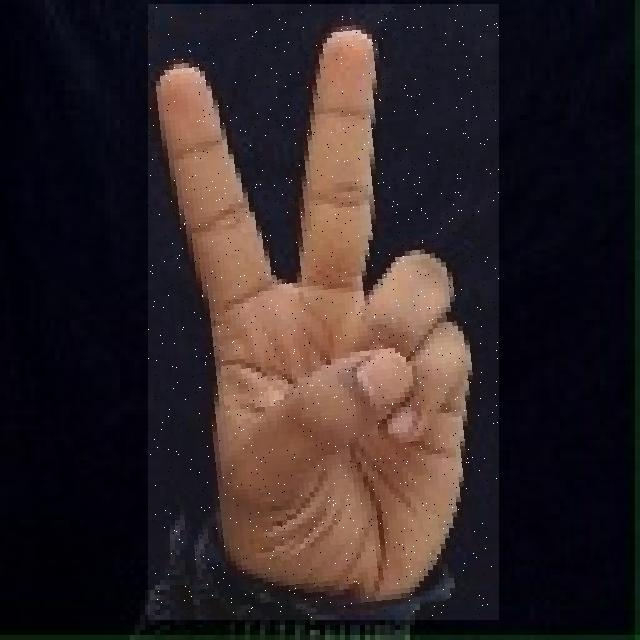No: (148, 4, 499, 620)
